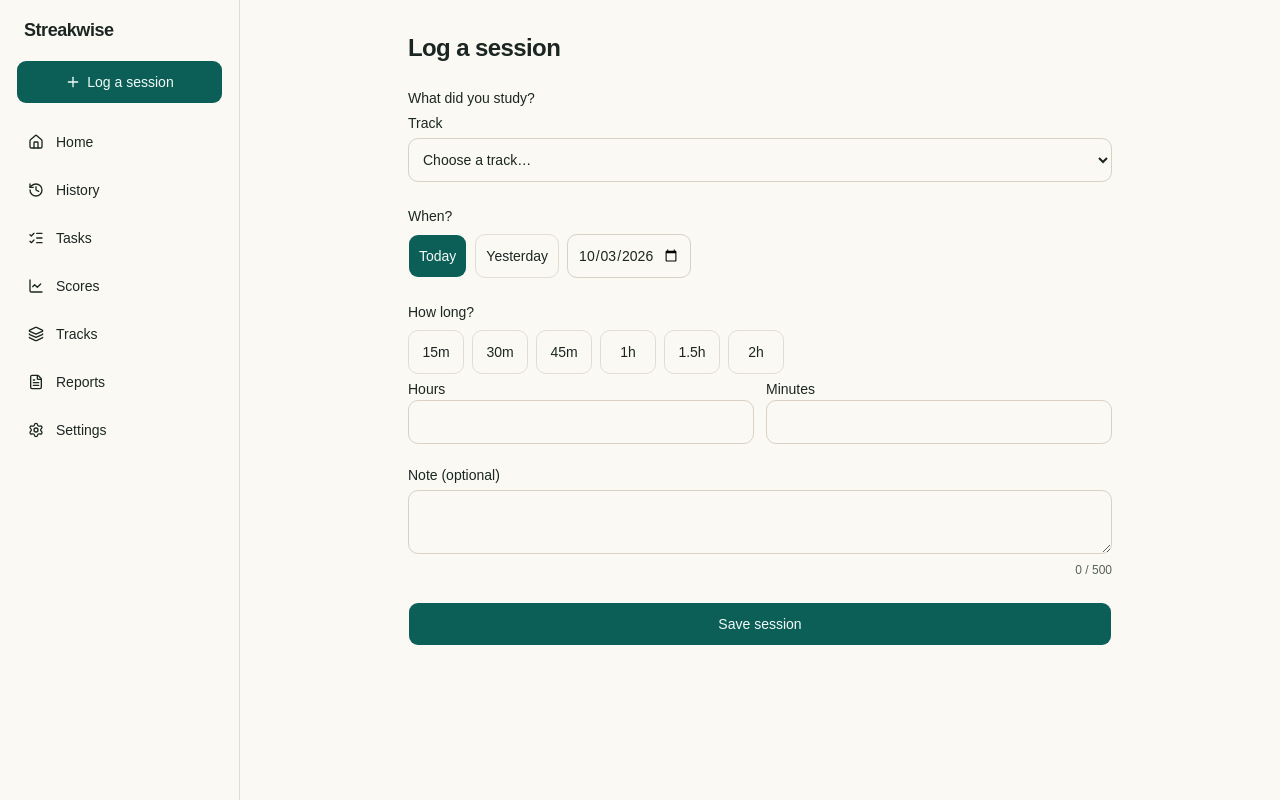
Test: Log form (LOG-2–5) › fills hours and minutes from the duration chips (LOG-4)
Click the button "45m" at (564, 352), box [536,330,592,374]
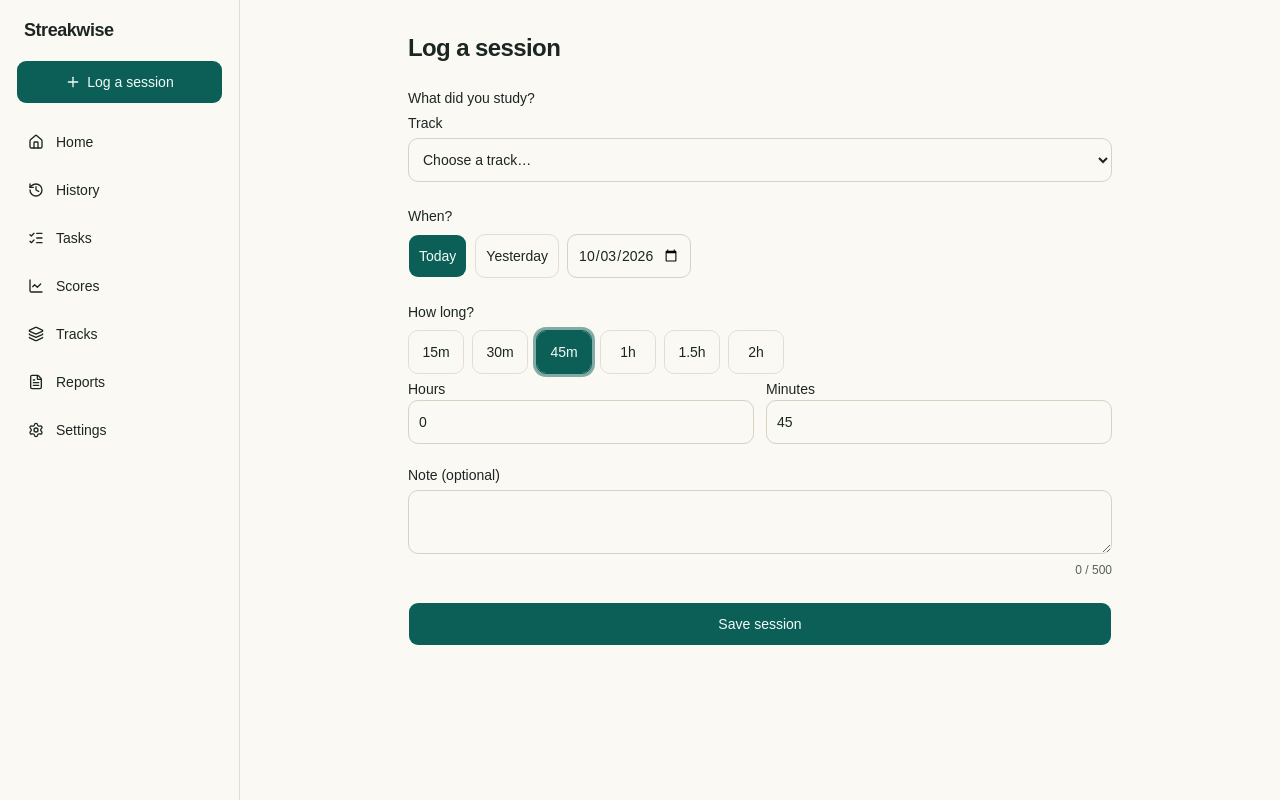
Check: the number field labelled "Hours" holds "0", box [408,400,754,444]
Check: the number field labelled "Minutes" holds "45", box [766,400,1112,444]
Click the button "1.5h" at (692, 352), box [664,330,720,374]
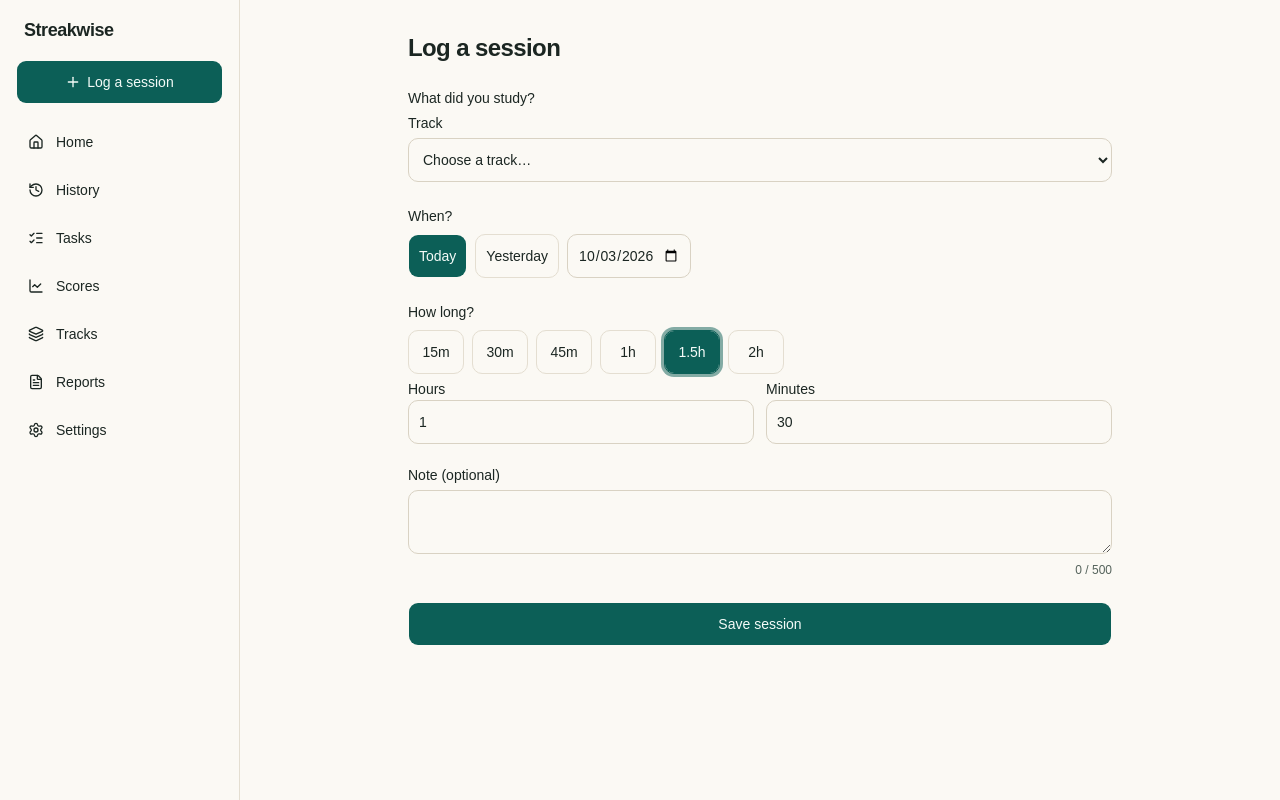
Check: the number field labelled "Hours" holds "1", box [408,400,754,444]
Check: the number field labelled "Minutes" holds "30", box [766,400,1112,444]
